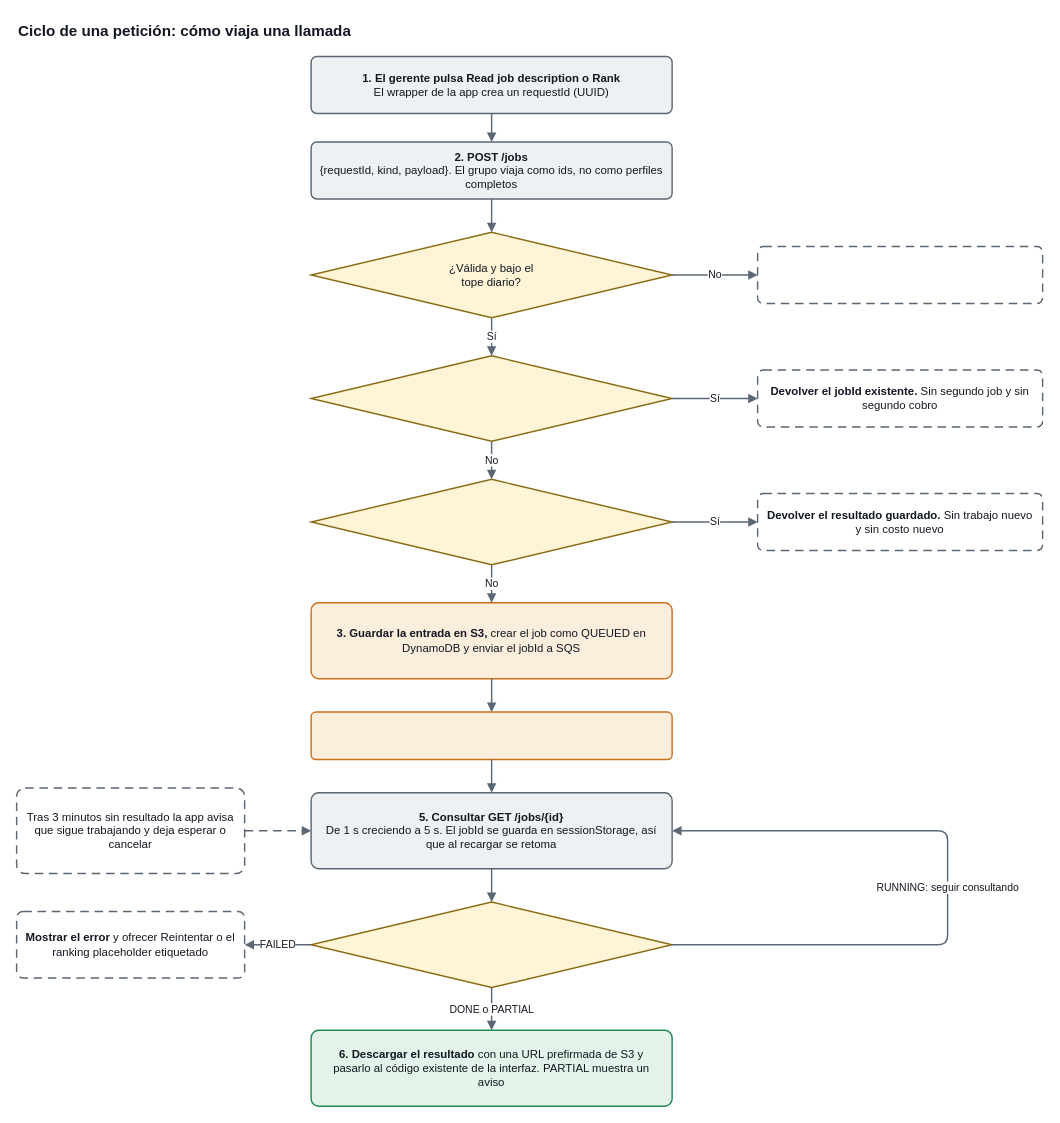
Image size: 1060x1123. Some labels were removed from this diagram. Here are the shapes that lost their labels. From the top down, the centre of each, then its label:
point (899, 274): 400 o 429 con un mensaje claro. No se crea ningún job
point (491, 398): ¿requestId ya visto?
point (491, 521): ¿Mismas entradas ya puntuadas?
point (491, 735): 4. Responder 202 con el jobId En menos de 1 segundo
point (491, 944): ¿Estado?
